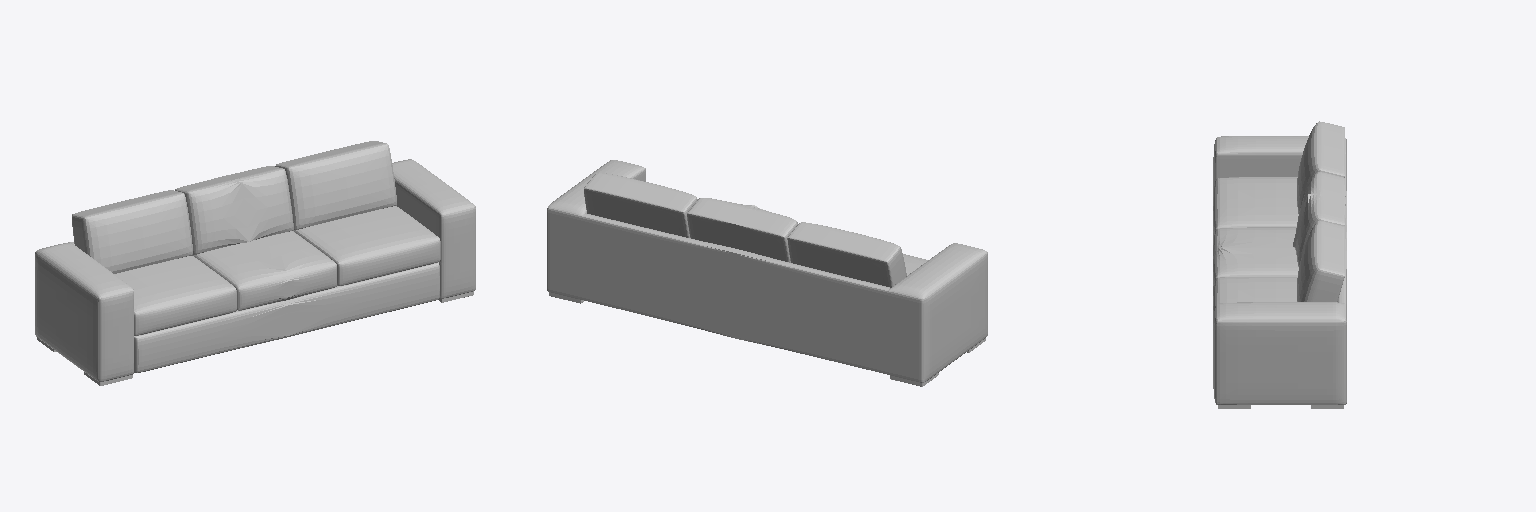
The model's file is rossini2.obj.
3 renders of one model, left to right at view 1: azimuth 30°, elevation 25°; view 2: azimuth 150°, elevation 25°; view 3: azimuth 270°, elevation 25°, orthographic.
Parts seen in each view (by area): view 1: polySurface10.003; view 2: polySurface10.003; view 3: polySurface10.003.
Boxes of the visible parts, x1,y1,x2,y2 form: polySurface10.003: [35, 141, 475, 385]; polySurface10.003: [547, 160, 987, 386]; polySurface10.003: [1213, 121, 1346, 408].
Bounding box in the file's own units: 7.19 × 2.24 × 2.19.